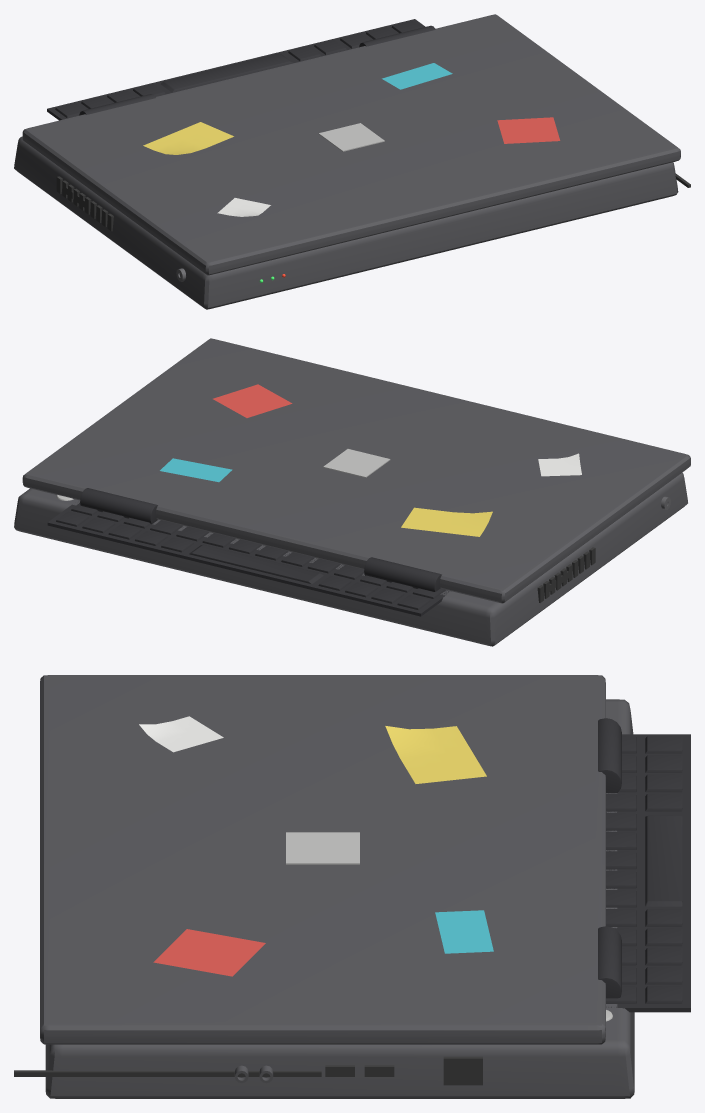
The model's file is electronics_laptop_closed.fbx.
The picture shows the model from 3 angles, top to bottom: view 1: azimuth 30°, elevation 25°; view 2: azimuth 150°, elevation 25°; view 3: azimuth 270°, elevation 25°; orthographic projection. The views are drawn at different scales.
Parts seen in each view (by area): view 1: electronics_laptop_closed; view 2: electronics_laptop_closed; view 3: electronics_laptop_closed.
Part boxes in pixels (box(x1,y1,x2,y2)): electronics_laptop_closed: box(14, 14, 690, 309); electronics_laptop_closed: box(14, 338, 690, 646); electronics_laptop_closed: box(14, 675, 690, 1098).
Bounding box in the file's own units: 0.3458 × 0.0406 × 0.275.
